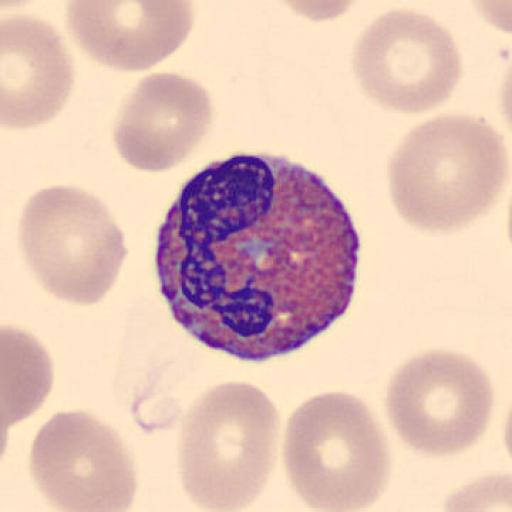RBC: (385, 112, 510, 236), (15, 181, 130, 308), (174, 379, 282, 512), (281, 388, 393, 512), (383, 346, 495, 459), (350, 6, 464, 115), (27, 407, 140, 512), (112, 70, 214, 176), (64, 0, 197, 73), (2, 11, 76, 131), (2, 320, 55, 430), (441, 471, 512, 512), (271, 0, 365, 23), (466, 0, 512, 37)
WBC: (153, 155, 365, 363)
